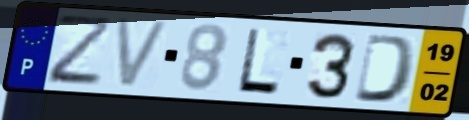3: (304, 30, 357, 101)
8: (178, 22, 232, 96)
D: (351, 32, 420, 106)
L: (234, 26, 283, 98)
V: (113, 16, 174, 91)
Z: (46, 14, 115, 88)
